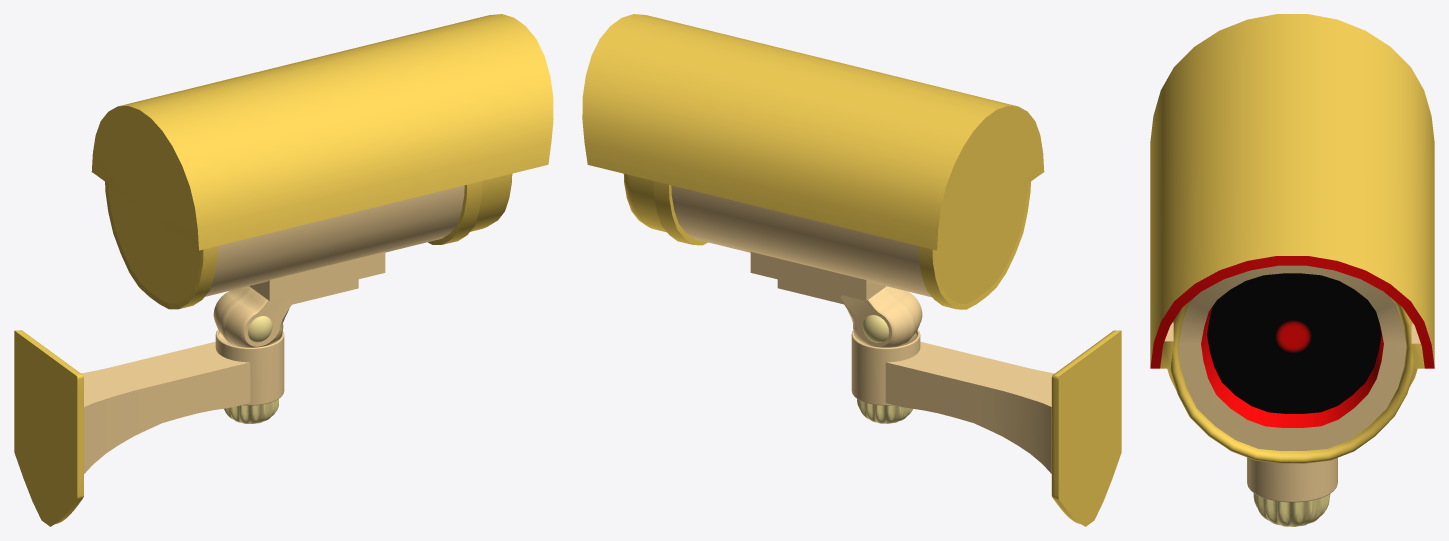
File: cameraOBJF.fbx
3 renders of one model, left to right at view 1: azimuth 30°, elevation 25°; view 2: azimuth 150°, elevation 25°; view 3: azimuth 270°, elevation 25°, orthographic. The views are drawn at different scales.
Parts seen in each view (by area): view 1: cameraH1; view 2: cameraH1; view 3: cameraH1.
Boxes of the visible parts, <box> form: cameraH1: <box>14,14,553,526</box>; cameraH1: <box>582,14,1121,526</box>; cameraH1: <box>1150,14,1434,526</box>.
Bounding box in the file's own units: 5.26 × 4.1 × 2.06.
Materials: 1 (1 with a texture image).
